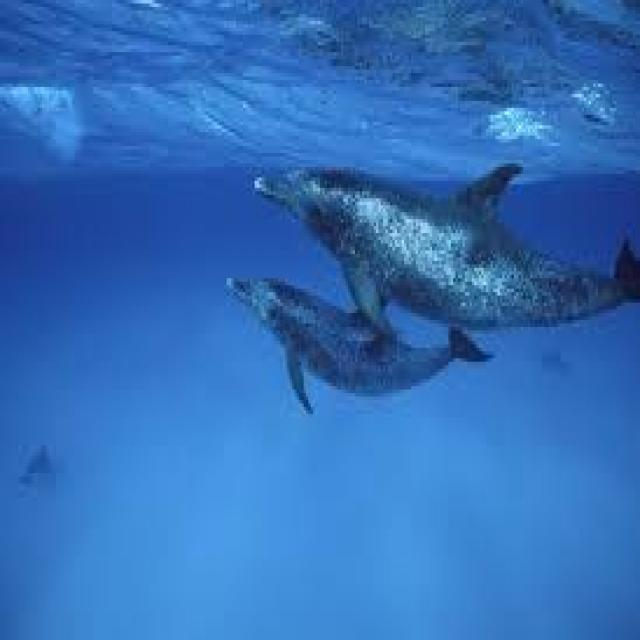dolphin: (250, 133, 640, 344), (214, 261, 483, 438)
